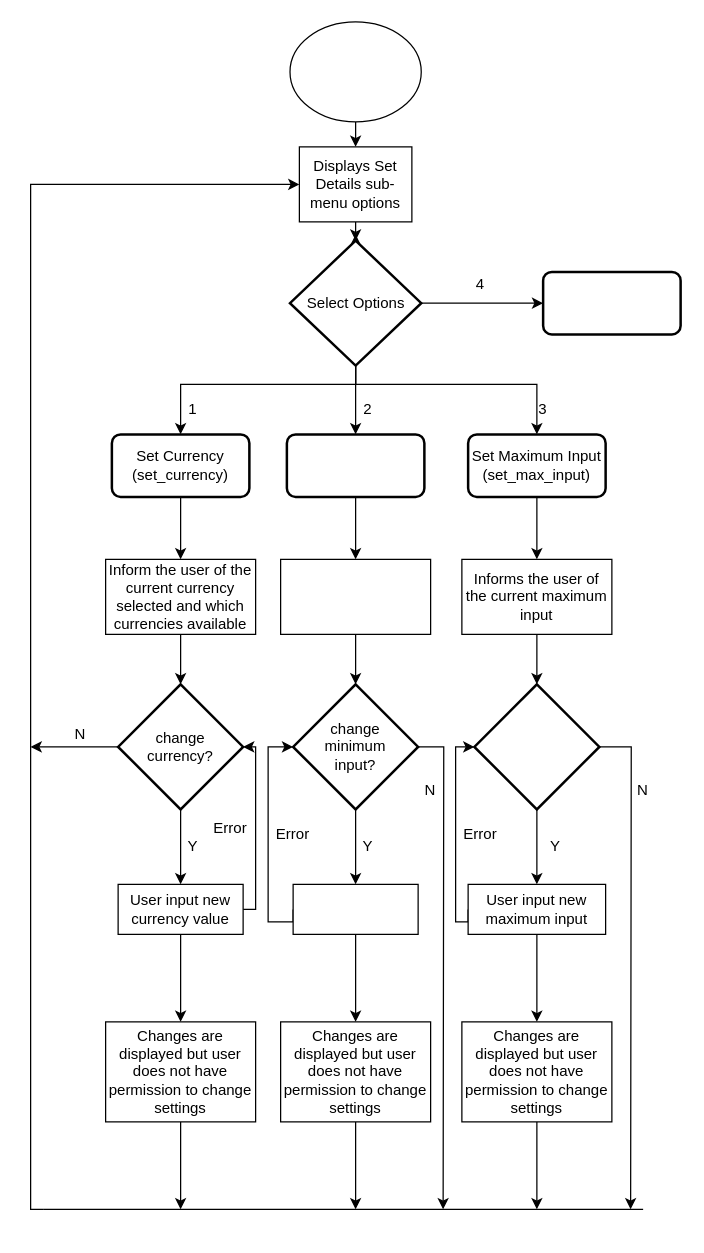
This 704x1253 diagram has some shape labels left out. The shapes that lost their labels are listed below. From the top down, each one's centre as x and y in pixels, then its label:
At [355,71]: "Set Details Sub-Menu (set_details)".
At [611,302]: "Go Back to Main Menu (mainMenu)".
At [355,465]: "Set Mininum Input (set_min_input)".
At [355,596]: "Informs the user of the current minimum input".
At [536,746]: "change max input?".
At [355,908]: "User input new minimum input".
